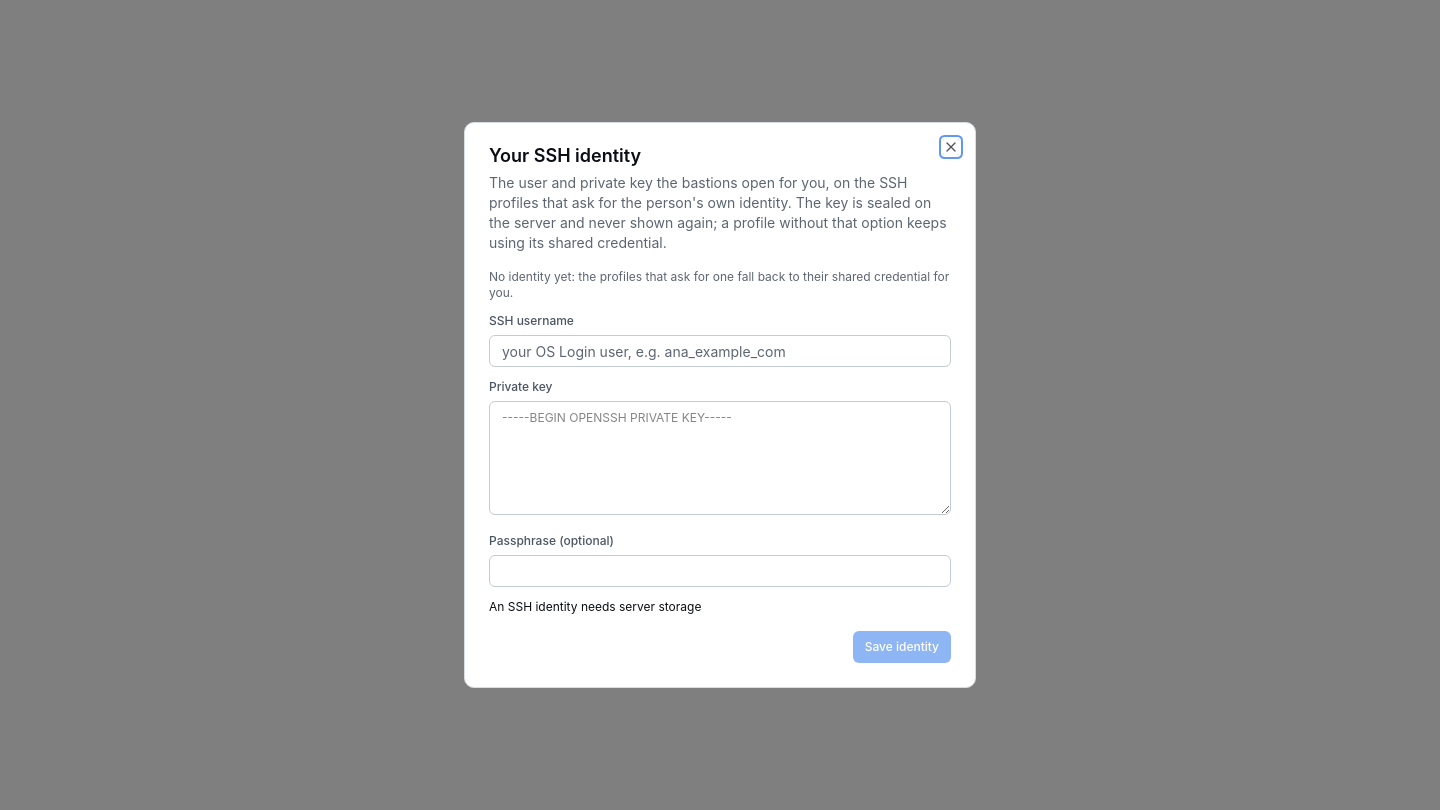
Test: SshIdentityDialog › the server's refusal is shown in its own words, on load and on save
The image size is (1440, 810).
Expected: the text with test id "ssh-identity-error" shows "needs server storage", [489,599,701,614]
In the field labelled "SSH username": point(720, 351) [489,335,951,367], type "ana"
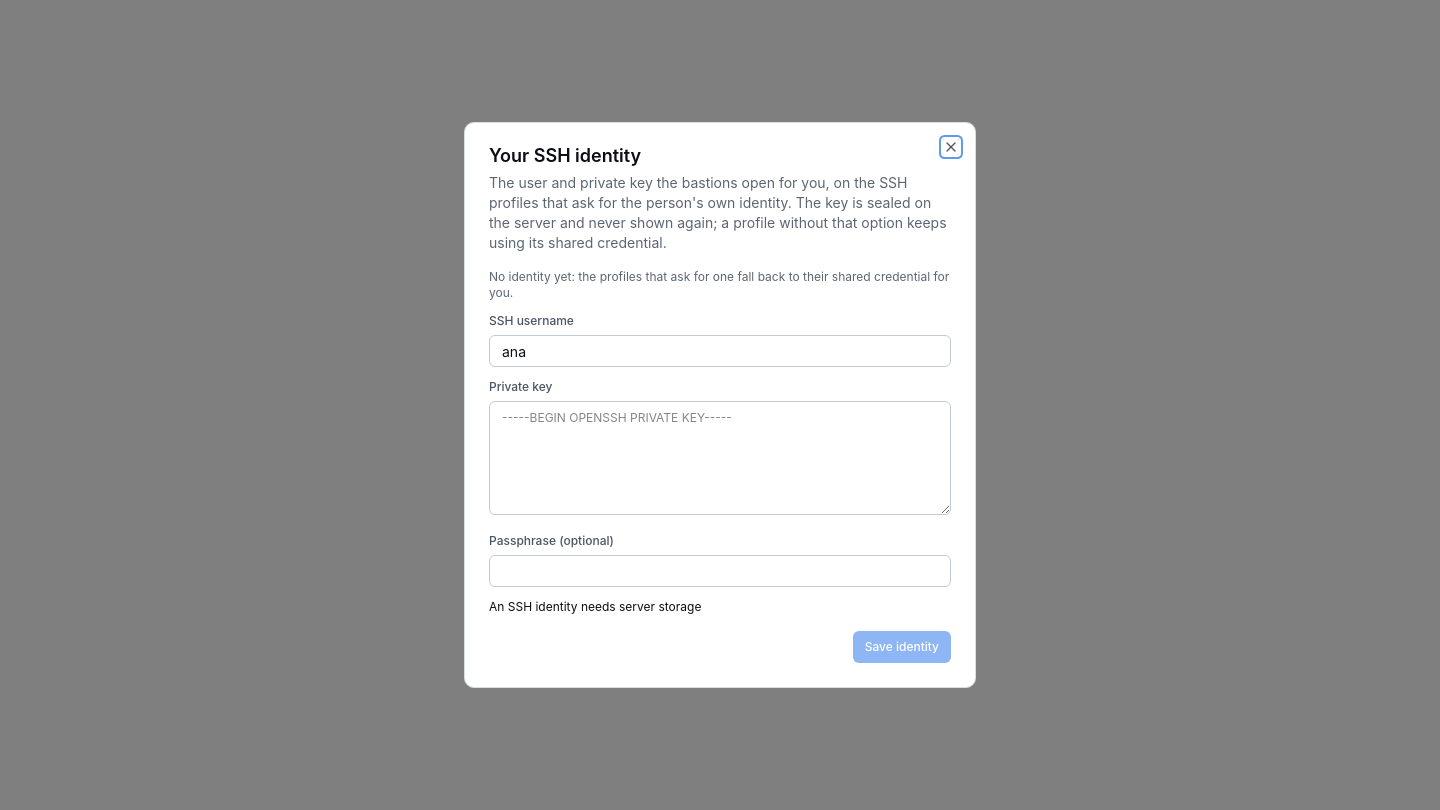
In the text box labelled "Private key": point(720, 458) [489,401,951,515], type "not-pem"
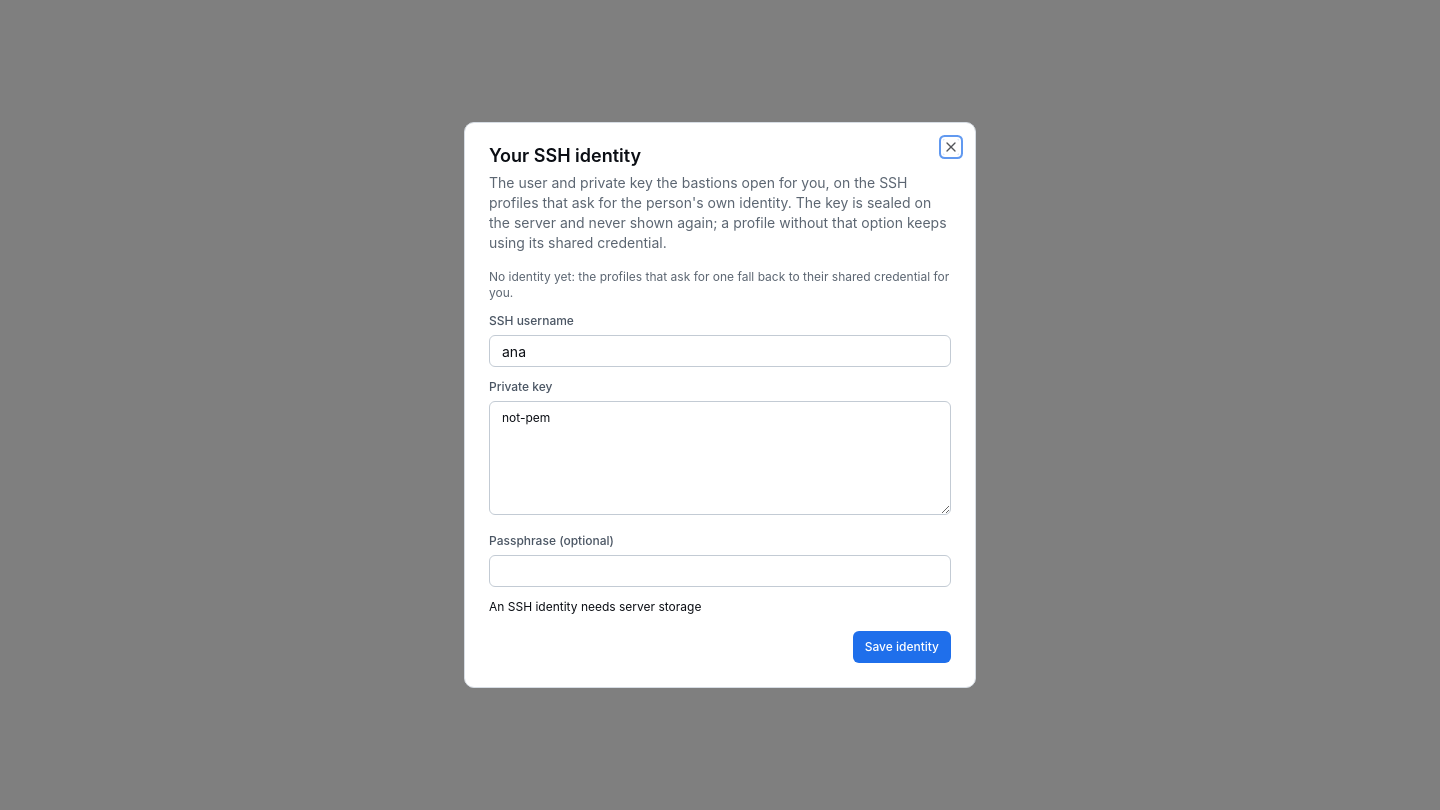
Click the button "Save identity": point(902, 647) [853,631,951,663]
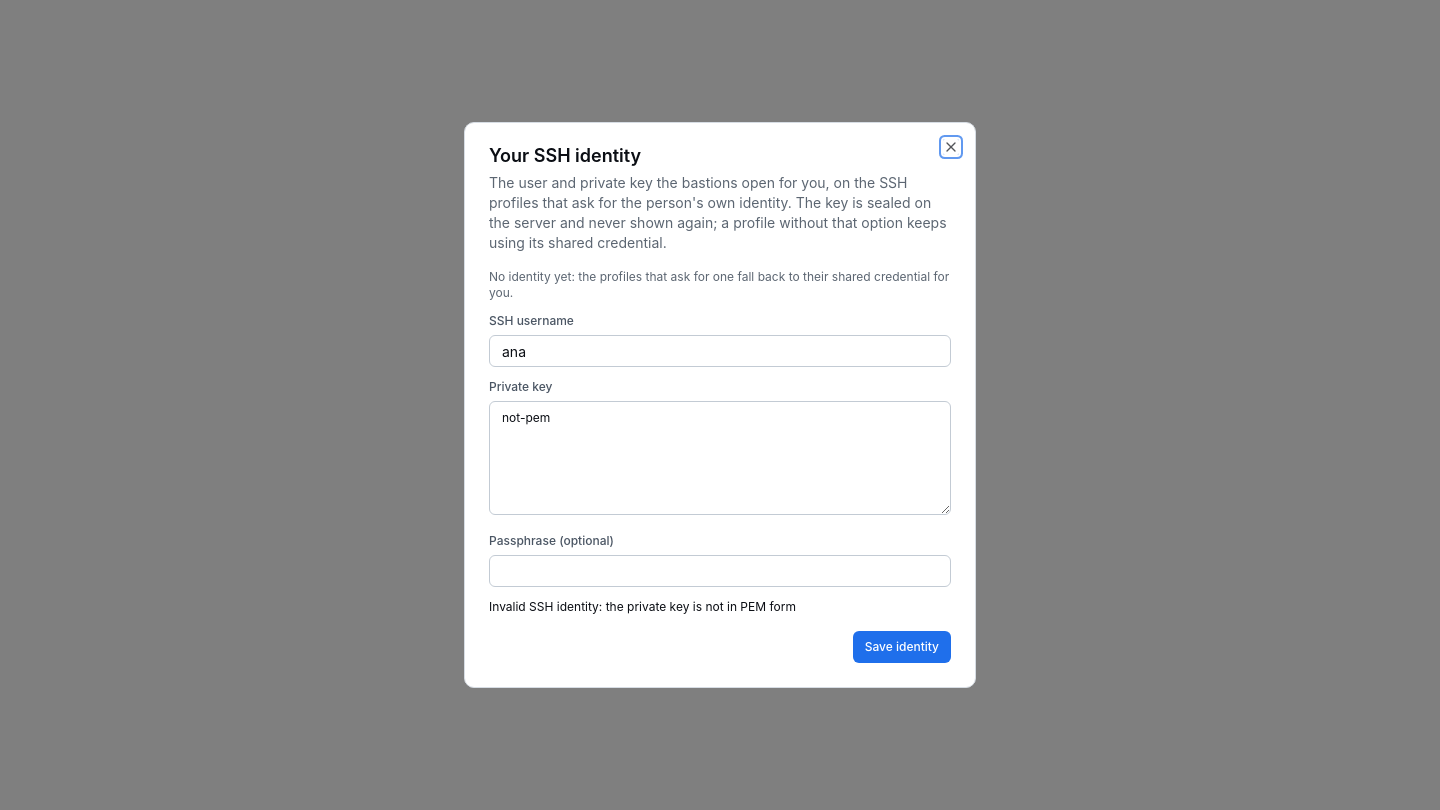
Expected: the text with test id "ssh-identity-error" shows "not in PEM form", [489,599,796,614]
